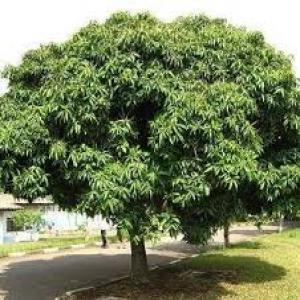Tree: (0, 8, 299, 273)
